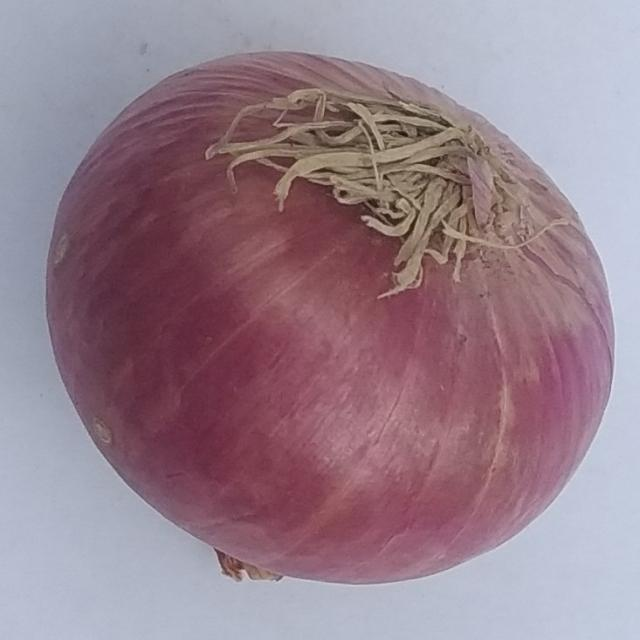onion: (43, 47, 618, 592)
